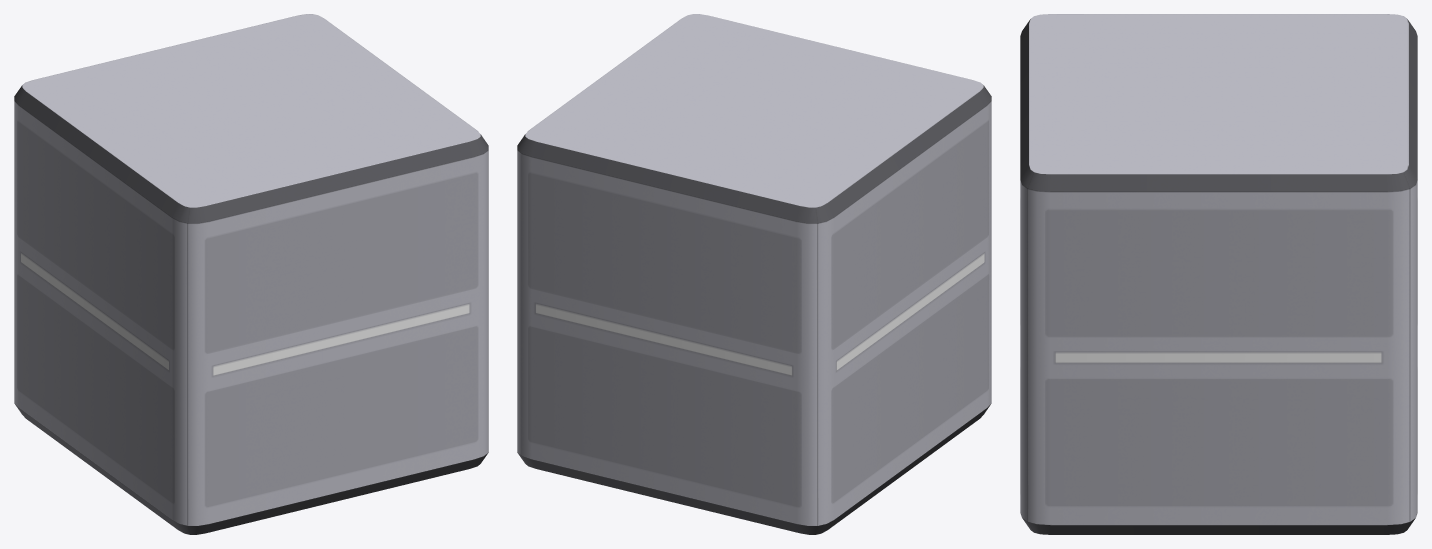
Rendered from Podium_04.FBX.
3 views of the same model, side by side, from view 1: azimuth 30°, elevation 25°; view 2: azimuth 150°, elevation 25°; view 3: azimuth 270°, elevation 25° (orthographic). The views are drawn at different scales.
Parts seen in each view (by area): view 1: Podium_04; view 2: Podium_04; view 3: Podium_04.
Boxes of the visible parts, x1,y1,x2,y2 form: Podium_04: [14, 14, 488, 534]; Podium_04: [517, 14, 991, 534]; Podium_04: [1020, 14, 1417, 534].
Bounding box in the file's own units: 2 × 2 × 2.
1 material, 1 textured.
